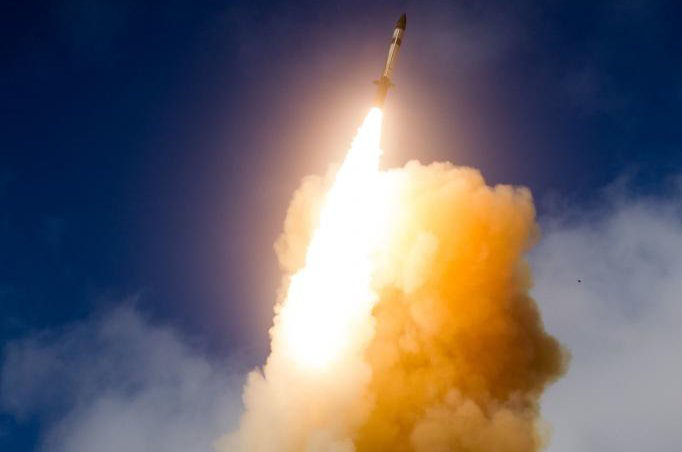ten_lua: (369, 13, 412, 112)
